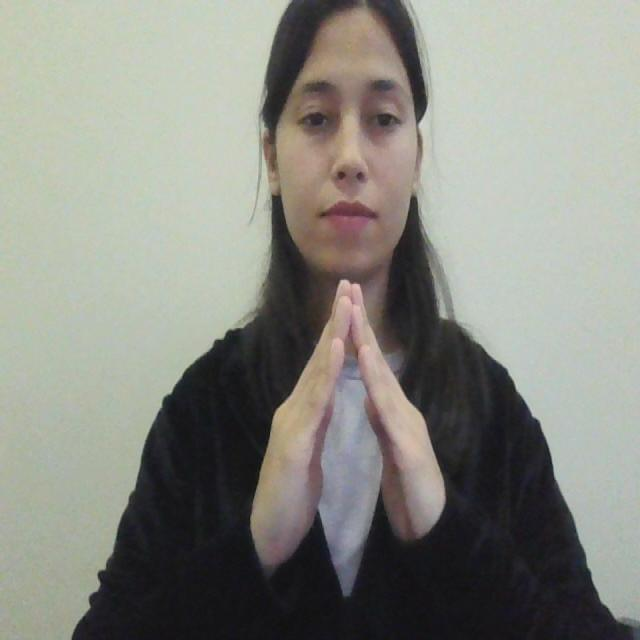Ev: (238, 262, 467, 592)
